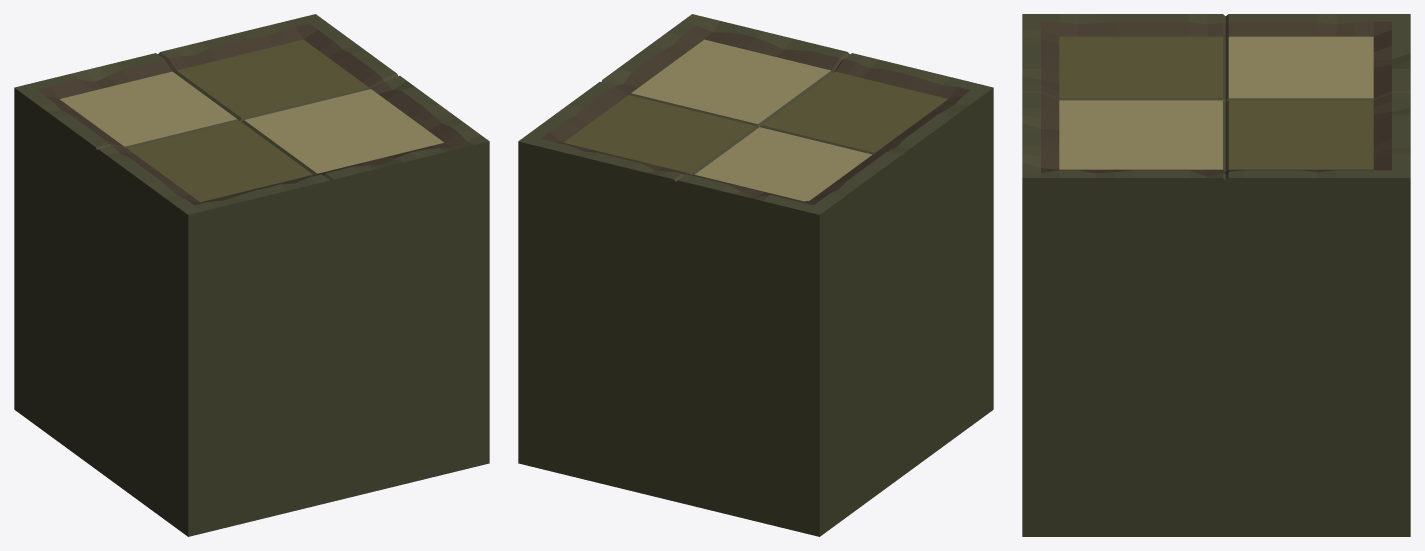
Rendered from oneField.fbx.
The picture shows the model from 3 angles, left to right: view 1: azimuth 30°, elevation 25°; view 2: azimuth 150°, elevation 25°; view 3: azimuth 270°, elevation 25°; orthographic projection. The views are drawn at different scales.
Parts seen in each view (by area): view 1: Cube.144; view 2: Cube.144; view 3: Cube.144.
Part boxes in pixels (x1,y1,x2,y2): Cube.144: (14, 14, 489, 536); Cube.144: (518, 14, 993, 536); Cube.144: (1022, 14, 1410, 536).
Size of the model in its own units: 200 by 204 by 200.
